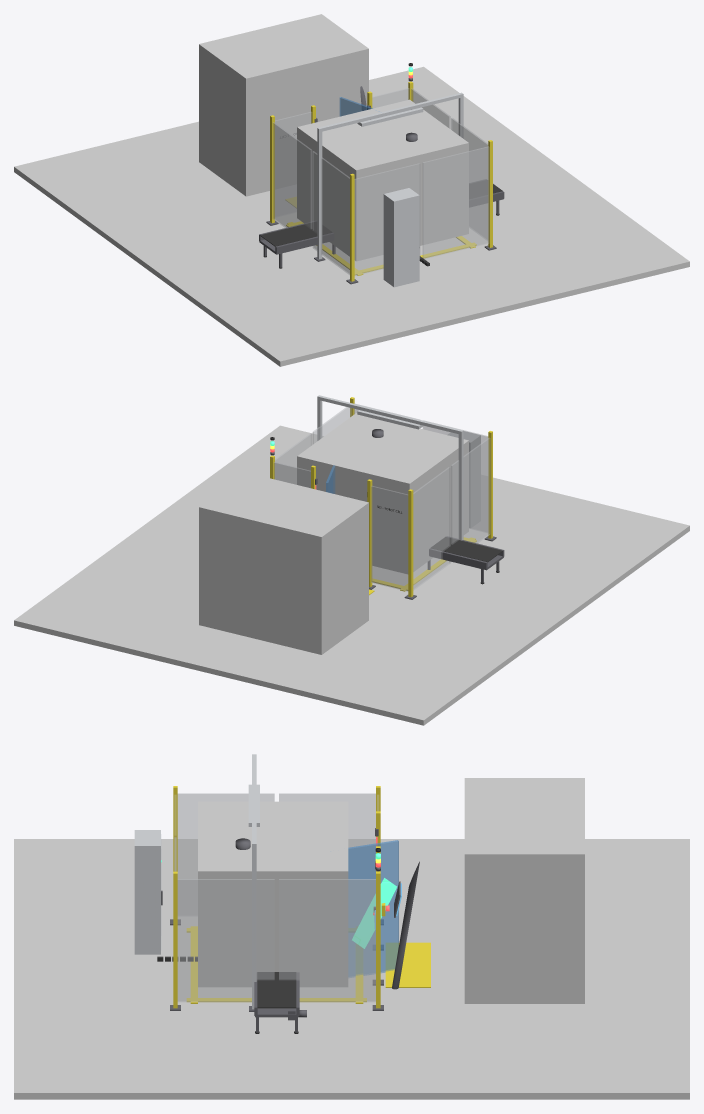
File: robot_cell.glb
The picture shows the model from 3 angles, top to bottom: view 1: azimuth 30°, elevation 25°; view 2: azimuth 150°, elevation 25°; view 3: azimuth 270°, elevation 25°; orthographic projection. The views are drawn at different scales.
Parts seen in each view (by area): view 1: PHYS_Review_FloorPatch, TRIGGER_Info_RobotCell, TRIGGER_RobotCell_WorkEnvelope, STATION_03_RobotCell_FencePanelBack_2, STATION_03_RobotCell_FencePanelBack_1, STATION_03_RobotCell_FencePanelLeft_2, STATION_03_RobotCell_Cabinet, STATION_03_RobotCell_FencePanelLeft_1, STATION_03_RobotCell_FencePanelFront_1, STATION_03_RobotCell_FencePanelRight_1, CONVEYOR_RobotCell_Input, STATION_03_RobotCell_GantryBeam (+4 smaller); view 2: PHYS_Review_FloorPatch, TRIGGER_Info_RobotCell, TRIGGER_RobotCell_WorkEnvelope, STATION_03_RobotCell_FencePanelFront_1, STATION_03_RobotCell_FencePanelLeft_2, STATION_03_RobotCell_FencePanelLeft_1, STATION_03_RobotCell_FencePanelBack_1, STATION_03_RobotCell_Cabinet, CONVEYOR_RobotCell_Input, STATION_03_RobotCell_FencePanelRight_2, STATION_03_RobotCell_GantryBeam, STATION_03_RobotCell_FencePanelFront_2 (+4 smaller); view 3: PHYS_Review_FloorPatch, TRIGGER_Info_RobotCell, TRIGGER_RobotCell_WorkEnvelope, STATION_03_RobotCell_FencePanelRight_2, STATION_03_RobotCell_FencePanelRight_1, STATION_03_RobotCell_Gate, STATION_03_RobotCell_Cabinet, STATION_03_RobotCell_FencePanelLeft_1, STATION_03_RobotCell_FencePanelLeft_2, STATION_03_RobotCell_OperatorZone, CONVEYOR_RobotCell_Output, STATION_03_RobotCell_GateInterlock (+6 smaller).
Part boxes in pixels (bbox=[...]): PHYS_Review_FloorPatch: bbox=[14, 66, 689, 366]; TRIGGER_Info_RobotCell: bbox=[199, 14, 368, 196]; TRIGGER_RobotCell_WorkEnvelope: bbox=[297, 99, 468, 261]; STATION_03_RobotCell_FencePanelBack_2: bbox=[422, 146, 489, 259]; STATION_03_RobotCell_FencePanelBack_1: bbox=[354, 163, 420, 275]; STATION_03_RobotCell_FencePanelLeft_2: bbox=[273, 122, 312, 246]; STATION_03_RobotCell_Cabinet: bbox=[383, 188, 419, 287]; STATION_03_RobotCell_FencePanelLeft_1: bbox=[312, 151, 349, 274]; STATION_03_RobotCell_FencePanelFront_1: bbox=[275, 112, 311, 217]; STATION_03_RobotCell_FencePanelRight_1: bbox=[451, 117, 488, 240]; CONVEYOR_RobotCell_Input: bbox=[260, 221, 332, 246]; STATION_03_RobotCell_GantryBeam: bbox=[317, 92, 463, 131]; PHYS_Review_FloorPatch: bbox=[14, 425, 689, 725]; TRIGGER_Info_RobotCell: bbox=[199, 472, 368, 654]; TRIGGER_RobotCell_WorkEnvelope: bbox=[297, 413, 468, 574]; STATION_03_RobotCell_FencePanelFront_1: bbox=[371, 486, 408, 591]; STATION_03_RobotCell_FencePanelLeft_2: bbox=[413, 467, 450, 590]; STATION_03_RobotCell_FencePanelLeft_1: bbox=[451, 438, 490, 544]; STATION_03_RobotCell_FencePanelBack_1: bbox=[422, 420, 488, 532]; STATION_03_RobotCell_Cabinet: bbox=[447, 431, 480, 527]; CONVEYOR_RobotCell_Input: bbox=[431, 537, 502, 562]; STATION_03_RobotCell_FencePanelRight_2: bbox=[275, 433, 312, 484]; STATION_03_RobotCell_GantryBeam: bbox=[317, 395, 463, 434]; STATION_03_RobotCell_FencePanelFront_2: bbox=[274, 462, 310, 487]; PHYS_Review_FloorPatch: bbox=[14, 839, 689, 1099]; TRIGGER_Info_RobotCell: bbox=[464, 778, 584, 1003]; TRIGGER_RobotCell_WorkEnvelope: bbox=[198, 801, 348, 987]; STATION_03_RobotCell_FencePanelRight_2: bbox=[279, 879, 375, 1002]; STATION_03_RobotCell_FencePanelRight_1: bbox=[177, 879, 274, 1002]; STATION_03_RobotCell_Gate: bbox=[348, 840, 398, 977]; STATION_03_RobotCell_Cabinet: bbox=[134, 830, 160, 954]; STATION_03_RobotCell_FencePanelLeft_1: bbox=[177, 793, 274, 916]; STATION_03_RobotCell_FencePanelLeft_2: bbox=[279, 793, 375, 878]; STATION_03_RobotCell_OperatorZone: bbox=[385, 942, 430, 987]; CONVEYOR_RobotCell_Output: bbox=[257, 972, 296, 1008]; STATION_03_RobotCell_GateInterlock: bbox=[352, 878, 396, 948].
Size of what is drawn, in the model's own units: 8 by 3.22 by 9.
